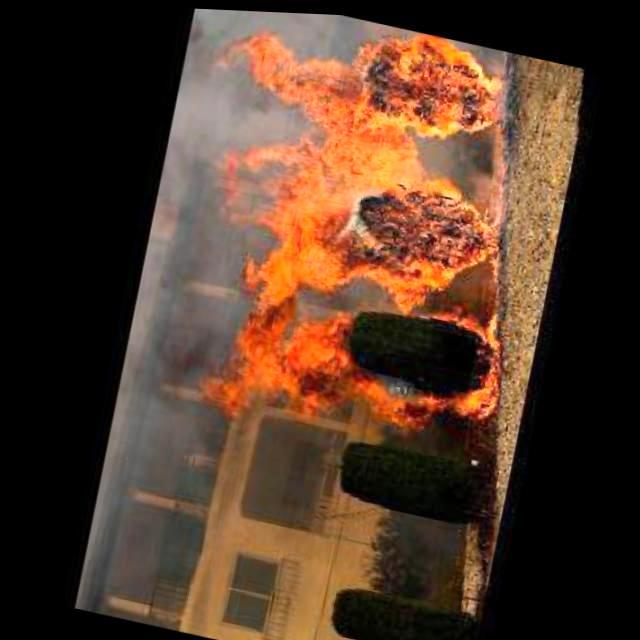fire: (170, 6, 550, 454)
